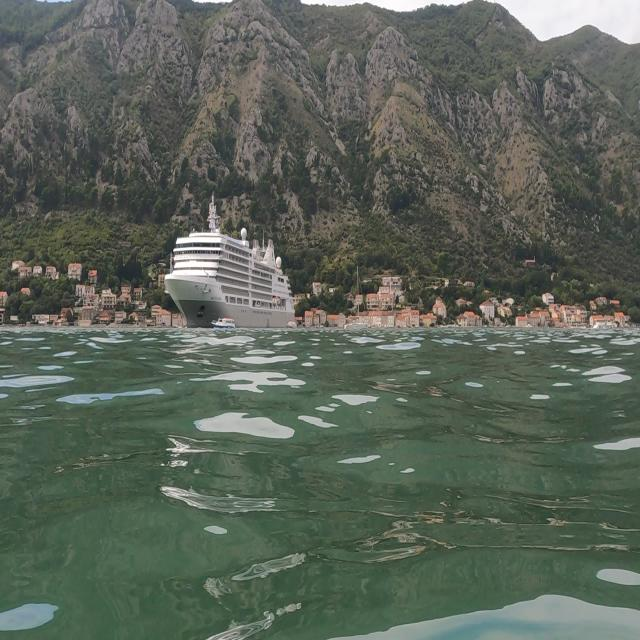boat: (162, 190, 298, 331), (208, 308, 238, 336)
